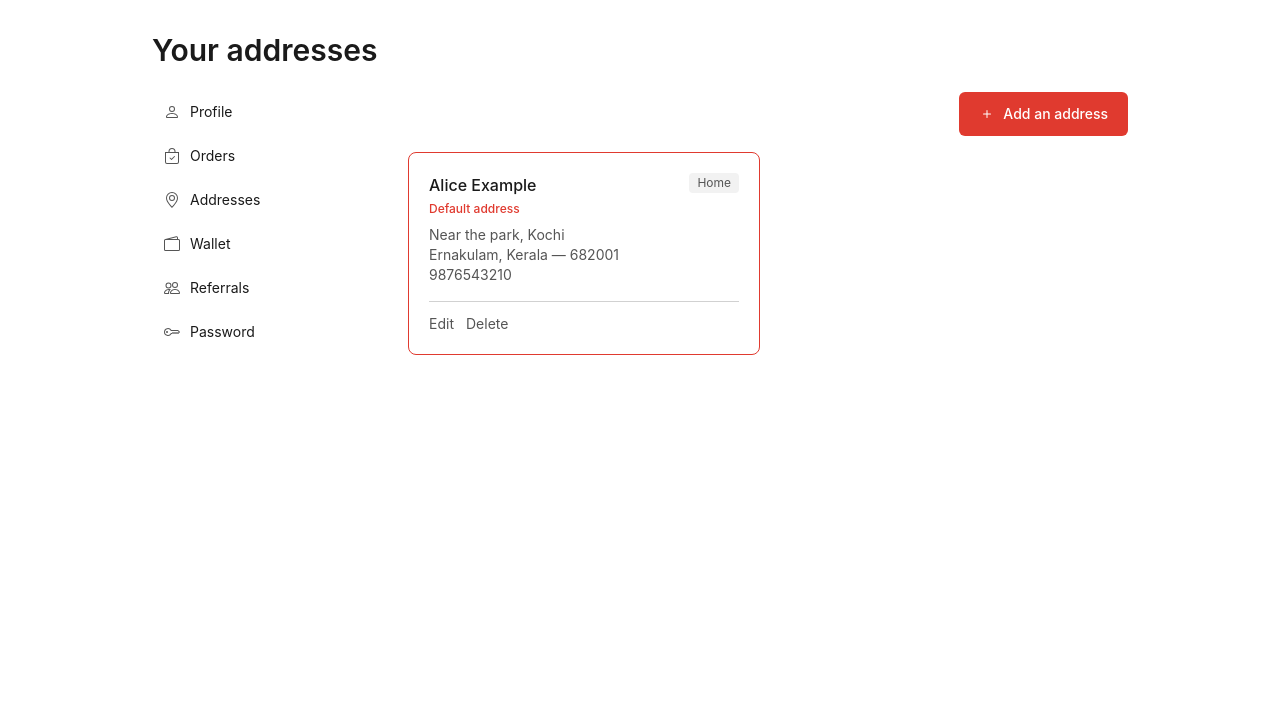
Test case: AddressBookPage › asks before deleting
Step 1. Click the button "Delete" → x=487, y=324, box [466, 314, 508, 334]
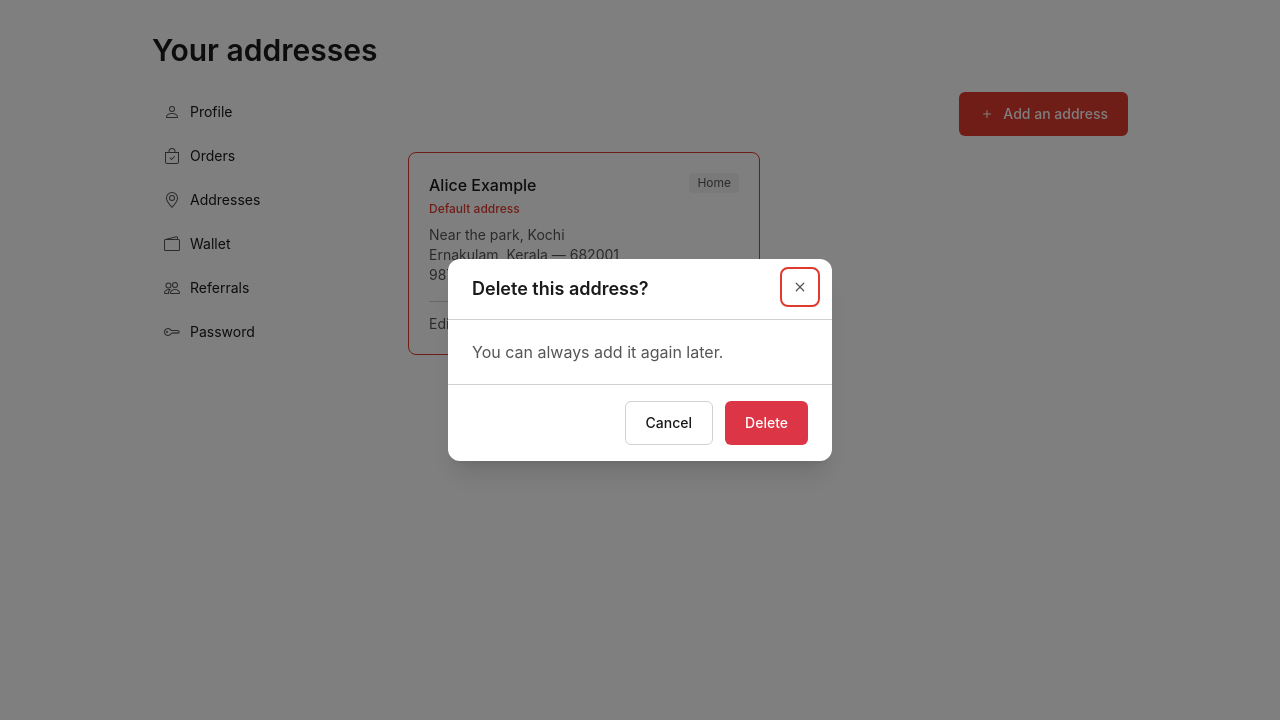
Expected: the dialog is shown, [448, 259, 832, 461]
